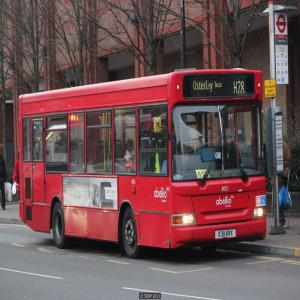Vehicle-registration-plate: (216, 230, 236, 241)
